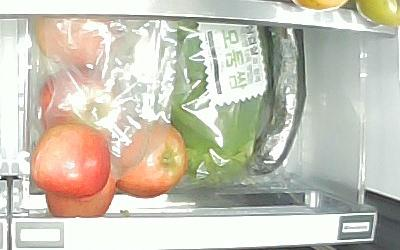apple: (32, 122, 110, 196), (114, 122, 187, 199), (45, 175, 115, 217)
apple_vinyl: (39, 65, 117, 129), (35, 19, 117, 67)
